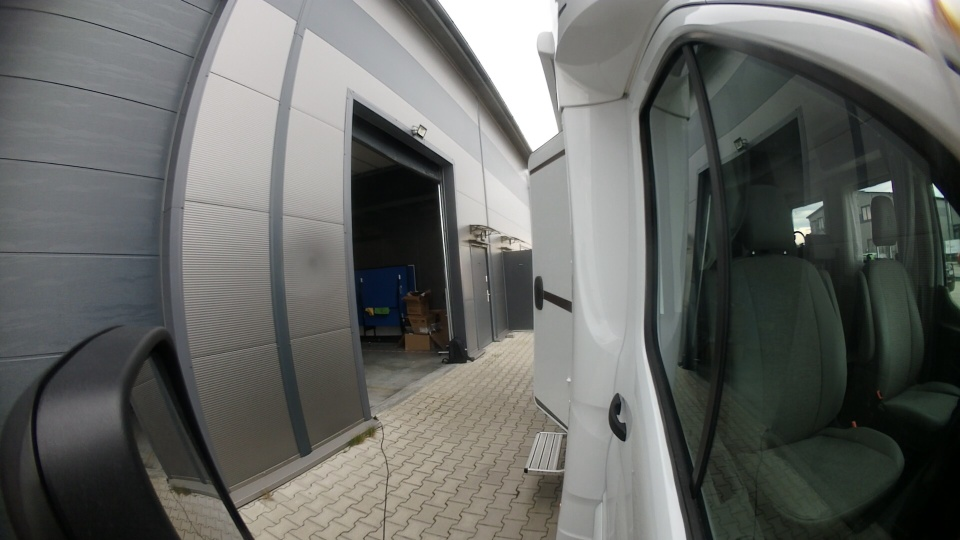door_front: (517, 126, 585, 435)
step_front: (522, 427, 573, 484)
